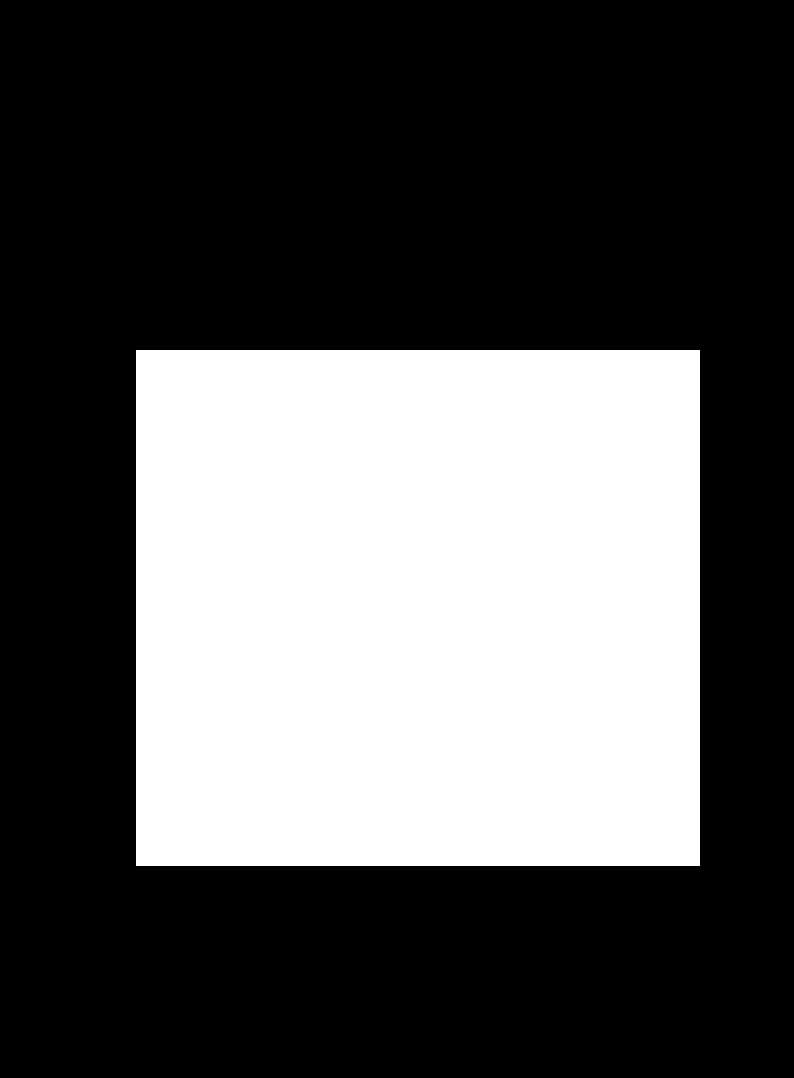table: (136, 350, 699, 865)
